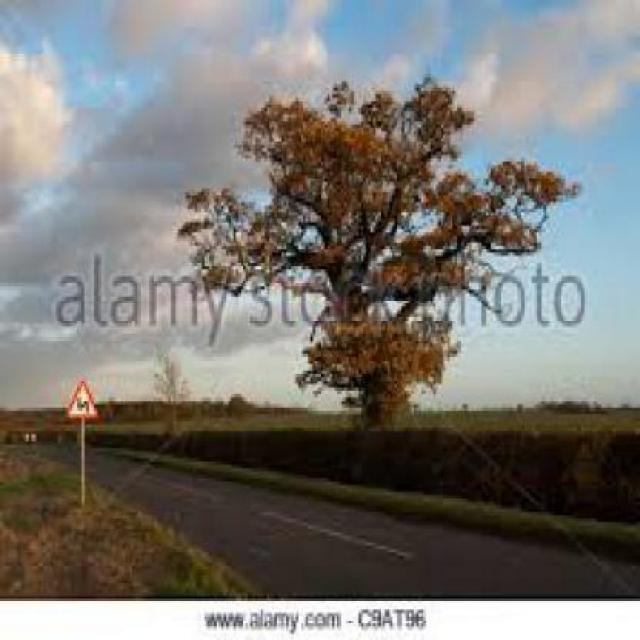traffic_sign: (60, 380, 102, 422)
